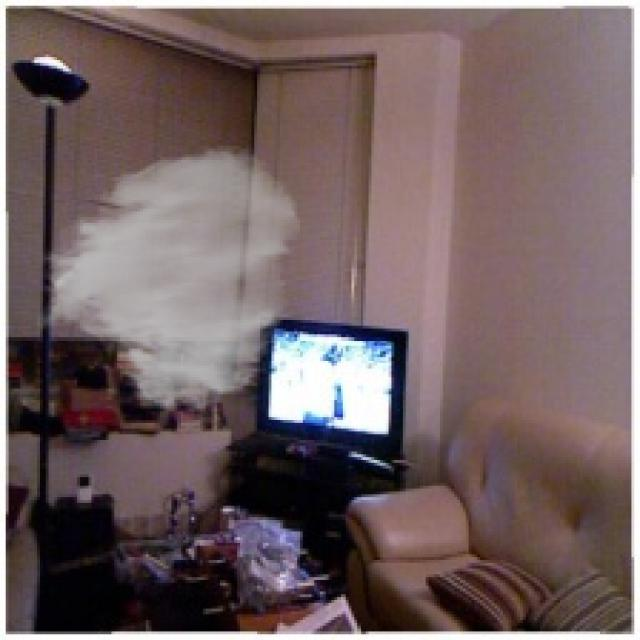smoke: (34, 143, 303, 414)
